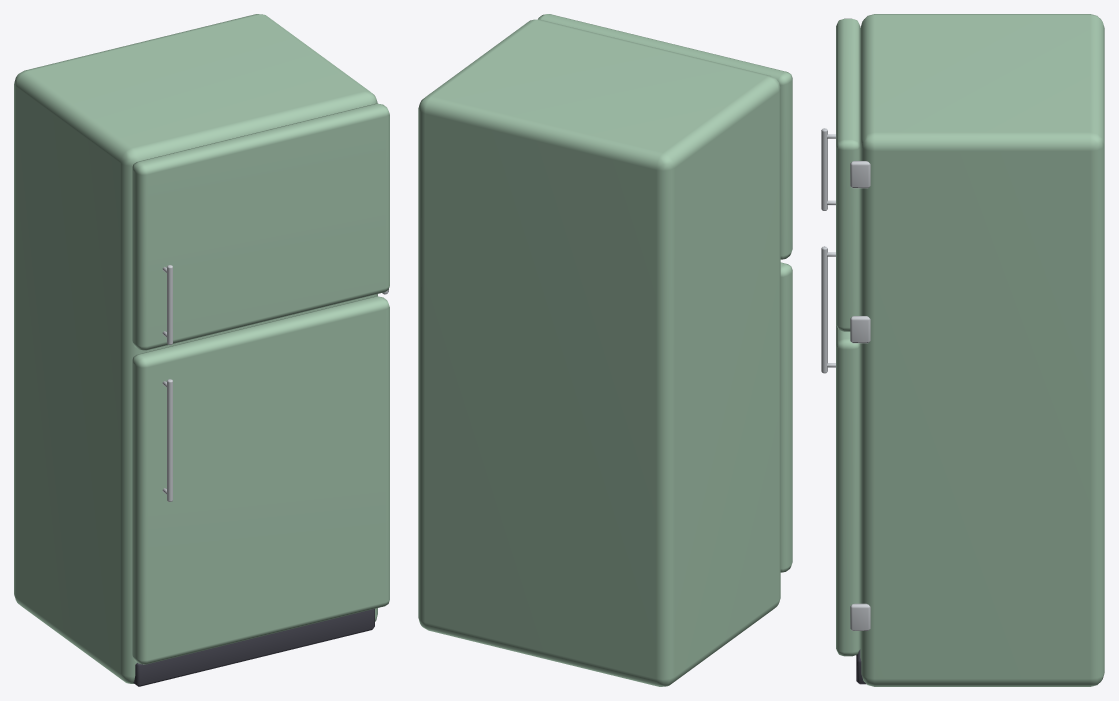
File: prop_fridge.glb
3 renders of one model, left to right at view 1: azimuth 30°, elevation 25°; view 2: azimuth 150°, elevation 25°; view 3: azimuth 270°, elevation 25°, orthographic. The views are drawn at different scales.
Visible parts, largest first — view 1: prop_fridge; view 2: prop_fridge; view 3: prop_fridge.
Part boxes in pixels (x1,y1,x2,y2): prop_fridge: (14,14,389,686); prop_fridge: (418,14,792,686); prop_fridge: (821,14,1104,686).
Size of the model in its own units: 0.9462 by 1.88 by 0.87.
